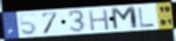3: (68, 9, 86, 34)
5: (18, 12, 39, 37)
7: (40, 11, 59, 36)
H: (87, 8, 111, 32)
L: (137, 7, 156, 28)
M: (110, 6, 141, 32)
